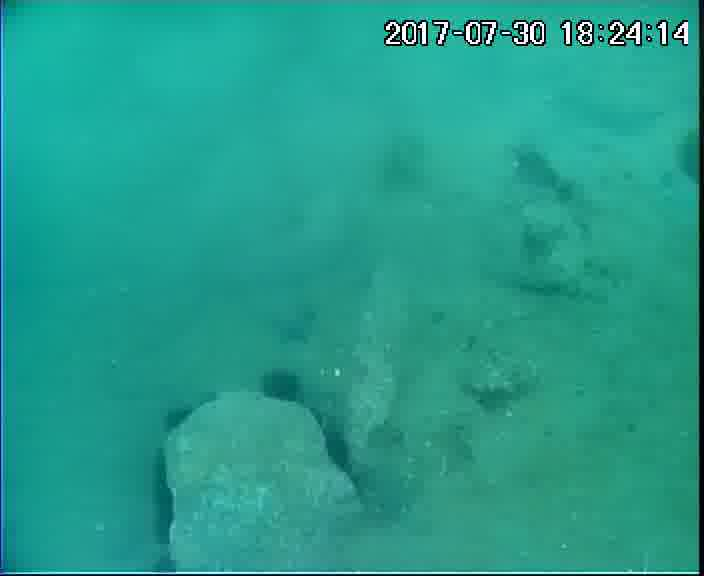starfish: (259, 364, 305, 406), (323, 425, 352, 473), (160, 406, 195, 433), (148, 449, 171, 485), (147, 554, 184, 576), (151, 508, 176, 538)
